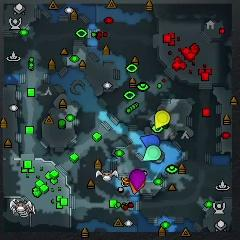p1: (140, 134, 160, 148)
p2: (142, 145, 160, 162)
p3: (130, 169, 146, 189)
p4: (155, 110, 170, 129)
p5: (129, 180, 145, 193)
